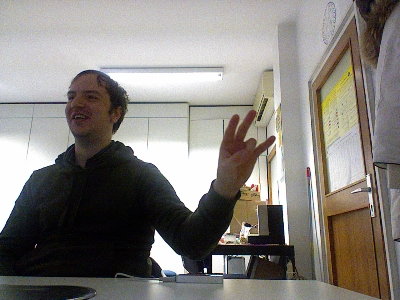观音: (214, 108, 277, 188)
